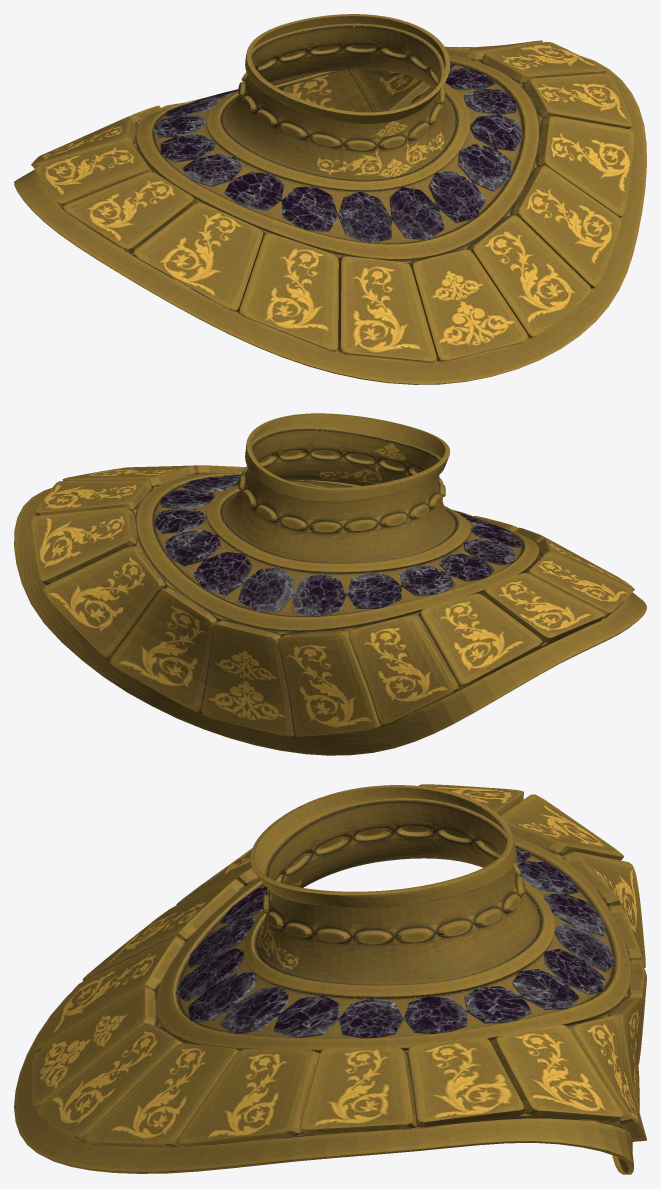
The model's file is neckTWO55.glb.
The picture shows the model from 3 angles, top to bottom: view 1: azimuth 30°, elevation 25°; view 2: azimuth 150°, elevation 25°; view 3: azimuth 270°, elevation 25°; orthographic projection. The views are drawn at different scales.
Parts seen in each view (by area): view 1: defaultMaterial; view 2: defaultMaterial; view 3: defaultMaterial.
Boxes of the visible parts, x1,y1,x2,y2 form: defaultMaterial: (14, 14, 646, 384); defaultMaterial: (14, 413, 646, 755); defaultMaterial: (14, 784, 646, 1174).
Size of the model in its own units: 526 by 202 by 394.
1 material, 1 textured.
